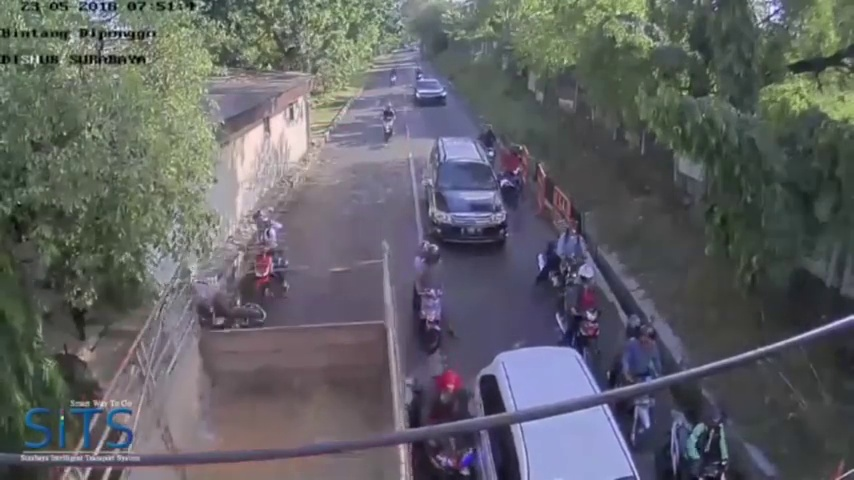car: (472, 347, 647, 480), (423, 136, 510, 252), (415, 77, 446, 107)
motorbike: (616, 311, 663, 441), (561, 259, 607, 365), (409, 234, 446, 354), (543, 215, 587, 304), (252, 207, 293, 301), (503, 144, 527, 202), (382, 104, 393, 145)
